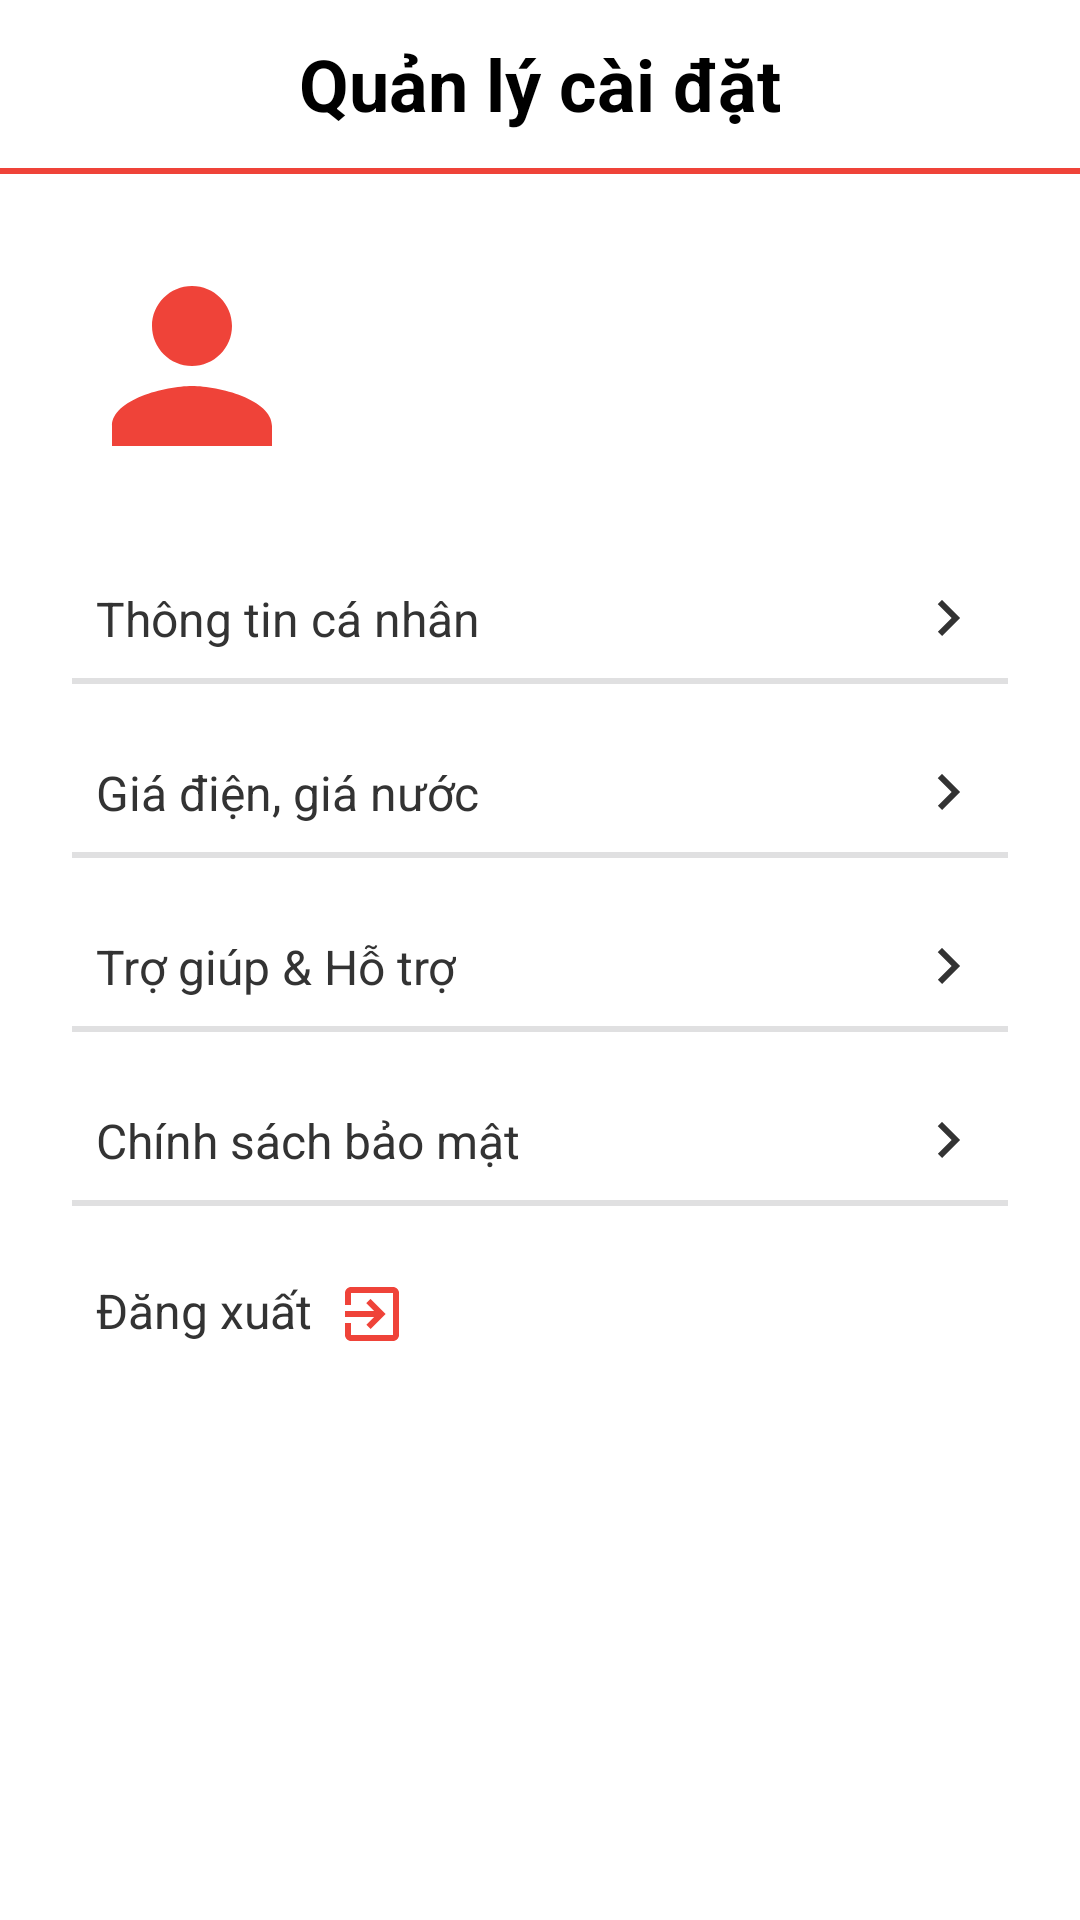

Icon bounding boxes for this 1080×1920 phone screenshot, format (x1, y1, x2, y2):
arrow right: (938, 600, 960, 636), (938, 774, 960, 810), (938, 948, 960, 984), (938, 1122, 960, 1158)
person: (112, 286, 272, 446)
